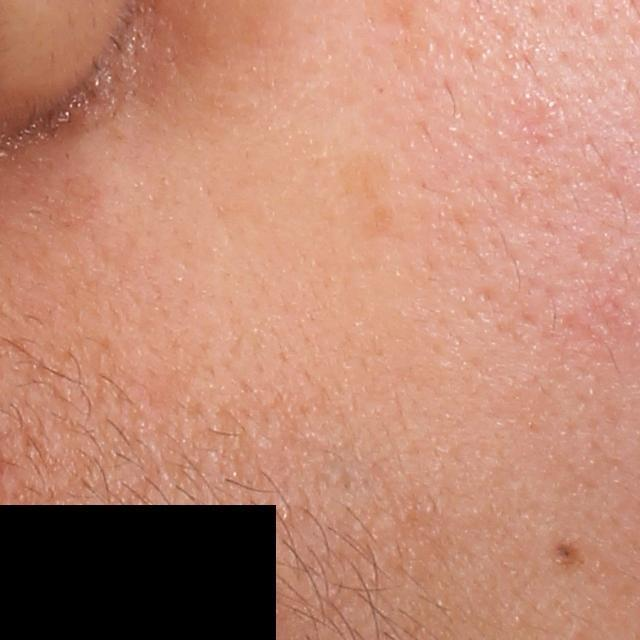nevus: (551, 540, 582, 569)
